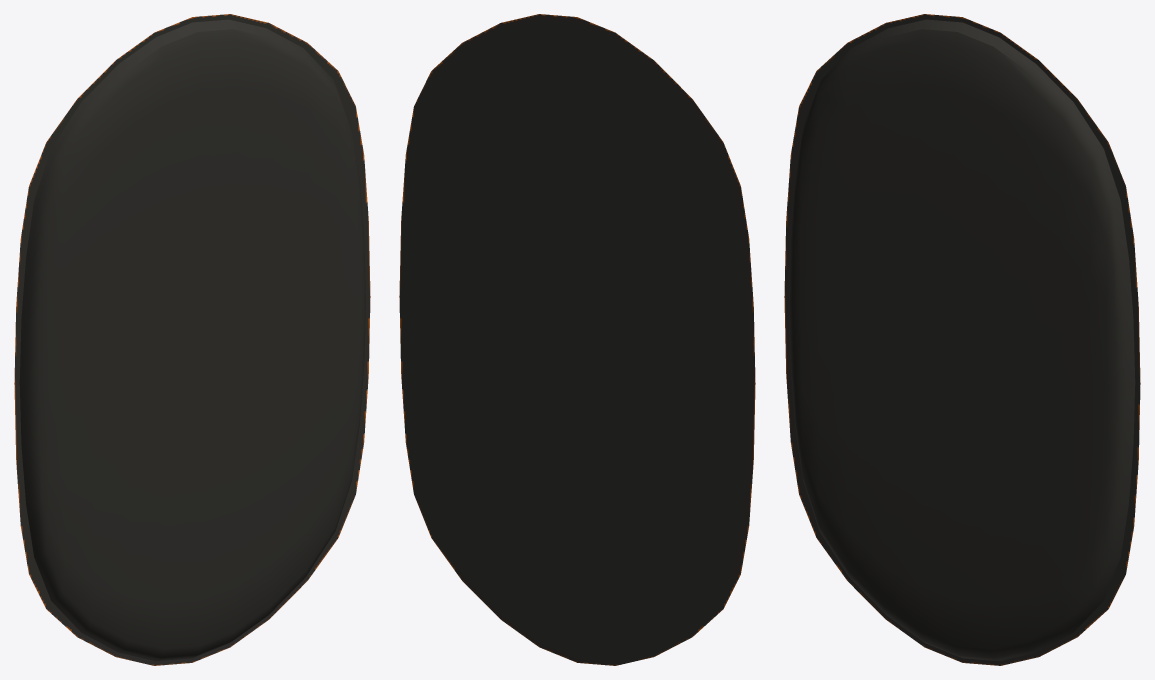
File: PerahuDalam.fbx
3 renders of one model, left to right at view 1: azimuth 30°, elevation 25°; view 2: azimuth 150°, elevation 25°; view 3: azimuth 330°, elevation 25°, orthographic.
Parts seen in each view (by area): view 1: PerahuDalam; view 2: PerahuDalam; view 3: PerahuDalam.
Part boxes in pixels (x1,y1,x2,y2): PerahuDalam: (14, 14, 370, 665); PerahuDalam: (399, 14, 755, 665); PerahuDalam: (784, 14, 1140, 665).
Bounding box in the file's own units: 73.86 × 128 × 3.3.
Materials: 1 (1 with a texture image).
